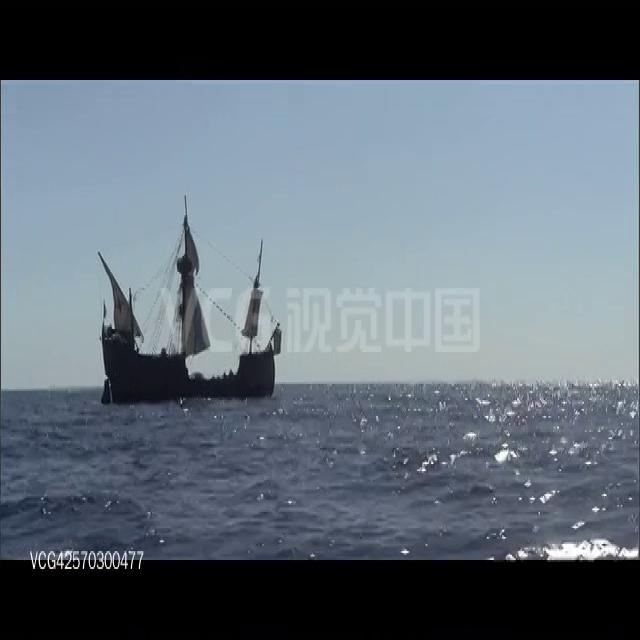sailboat: (86, 194, 283, 402)
